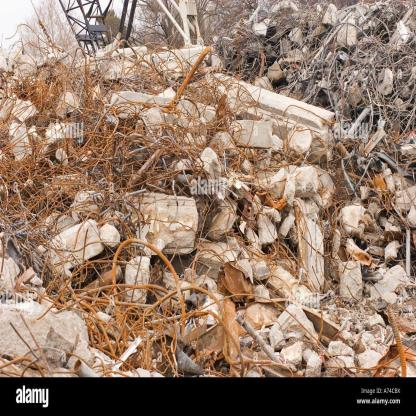rebar: (0, 44, 389, 381)
